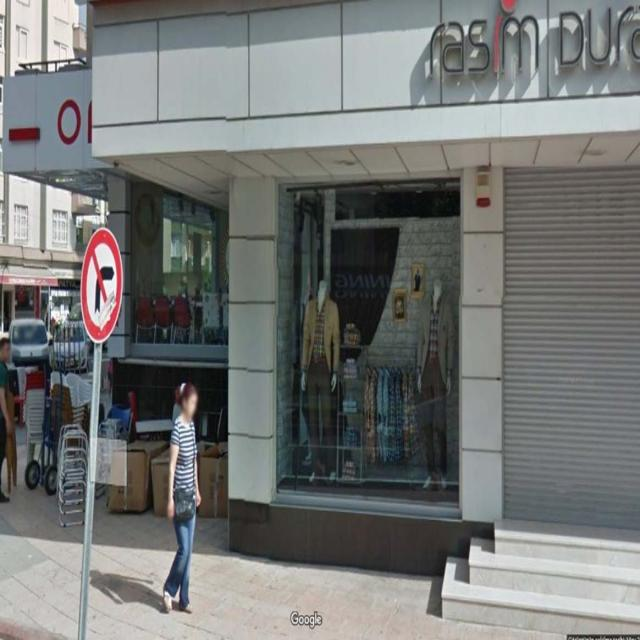sagadonulmez: (80, 228, 122, 343)
